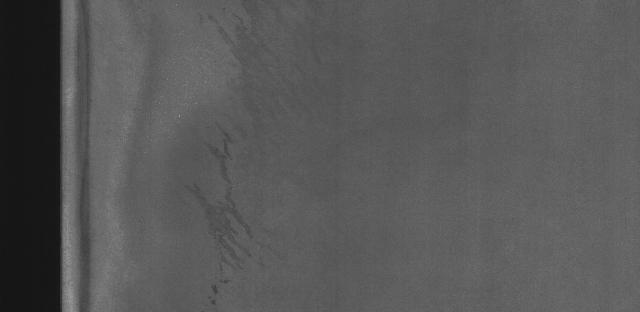water_spot: (182, 23, 308, 304)
